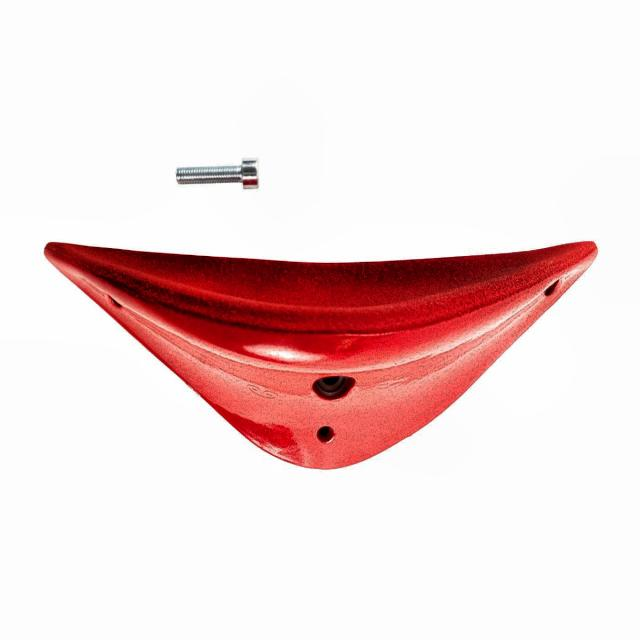Hold: (39, 236, 615, 469), (43, 240, 599, 470)
